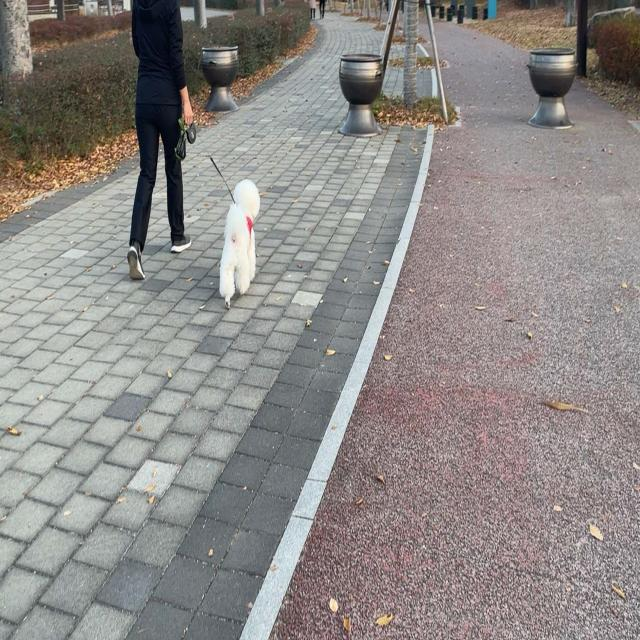Leashed_Dog: (170, 114, 262, 310)
